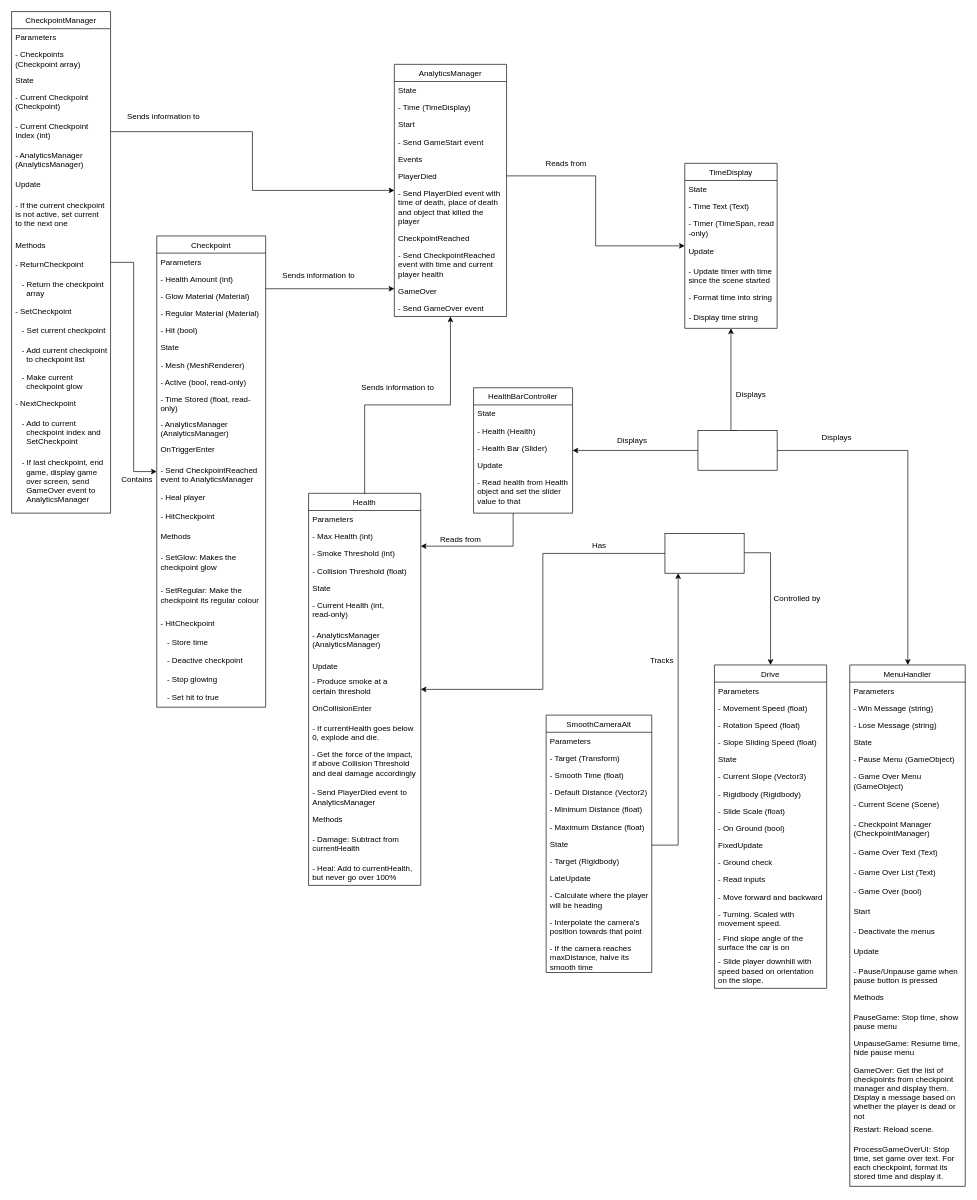
Some shapes in this 977 by 1200 pixel diagram are drawn without their labels. The centre of each missing label's shape, as x and y in pixels:
Player: point (704, 553)
UI: point (737, 450)
